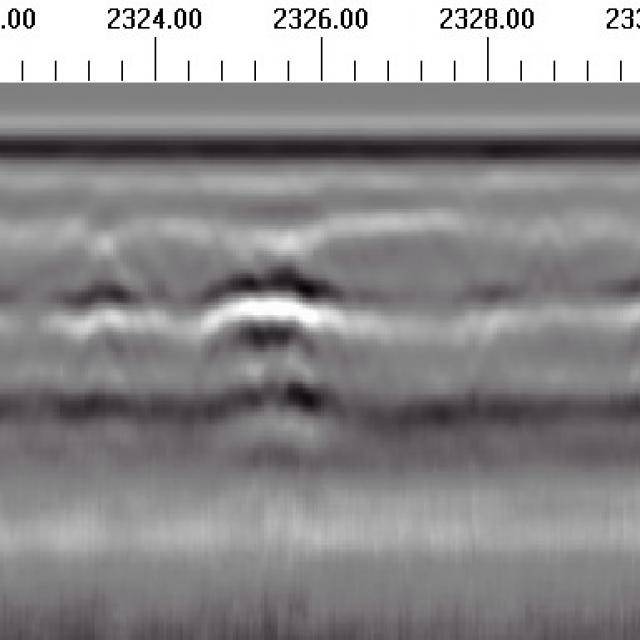loose: (46, 257, 357, 461)
